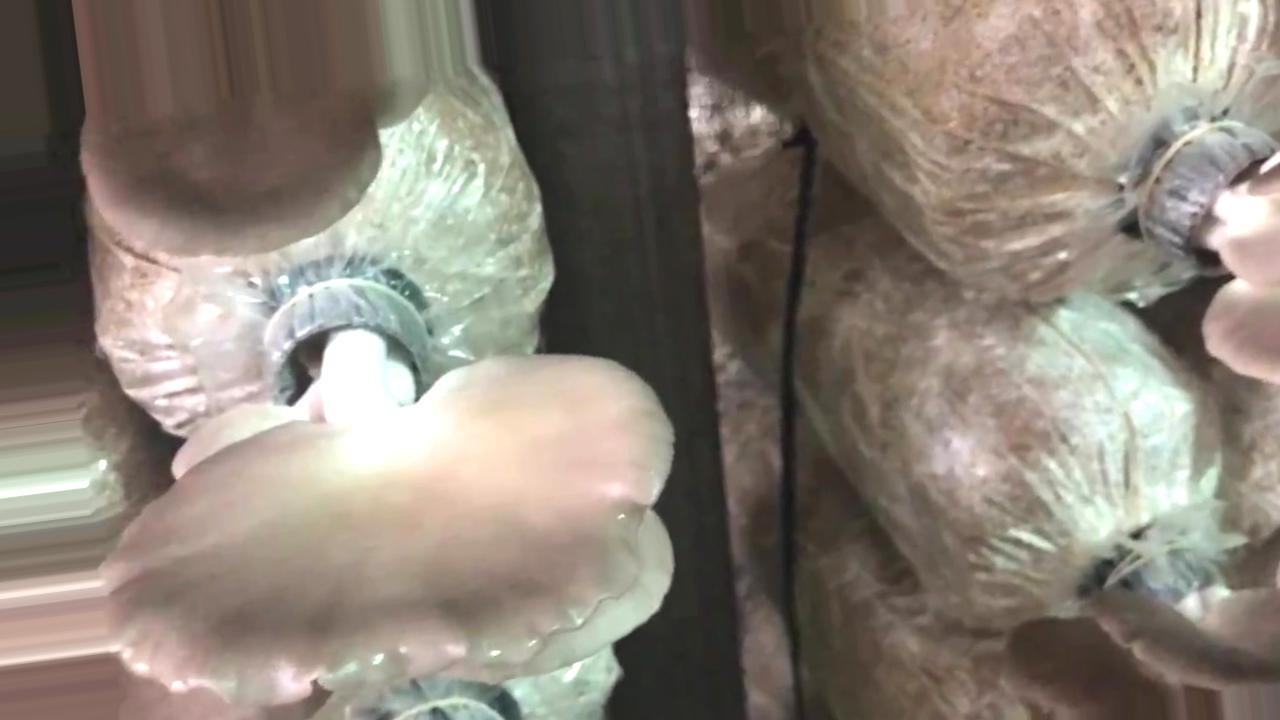nam: (98, 273, 682, 700), (77, 1, 436, 263), (1136, 116, 1280, 386)
